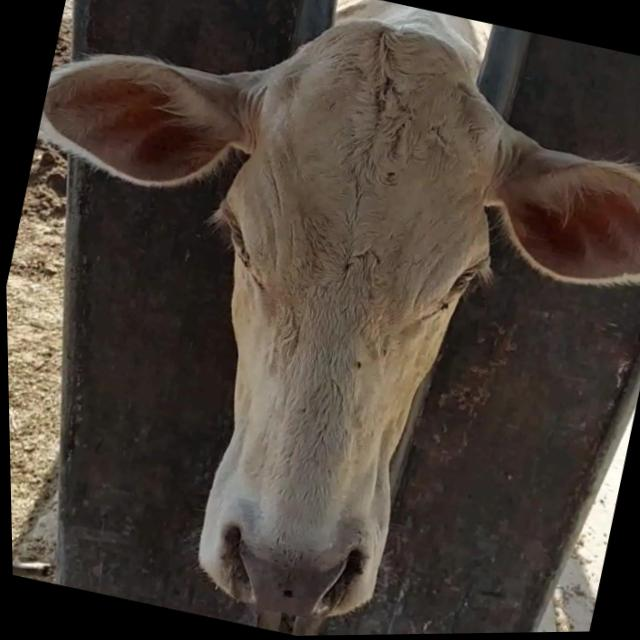cowFace: (135, 0, 540, 638)
